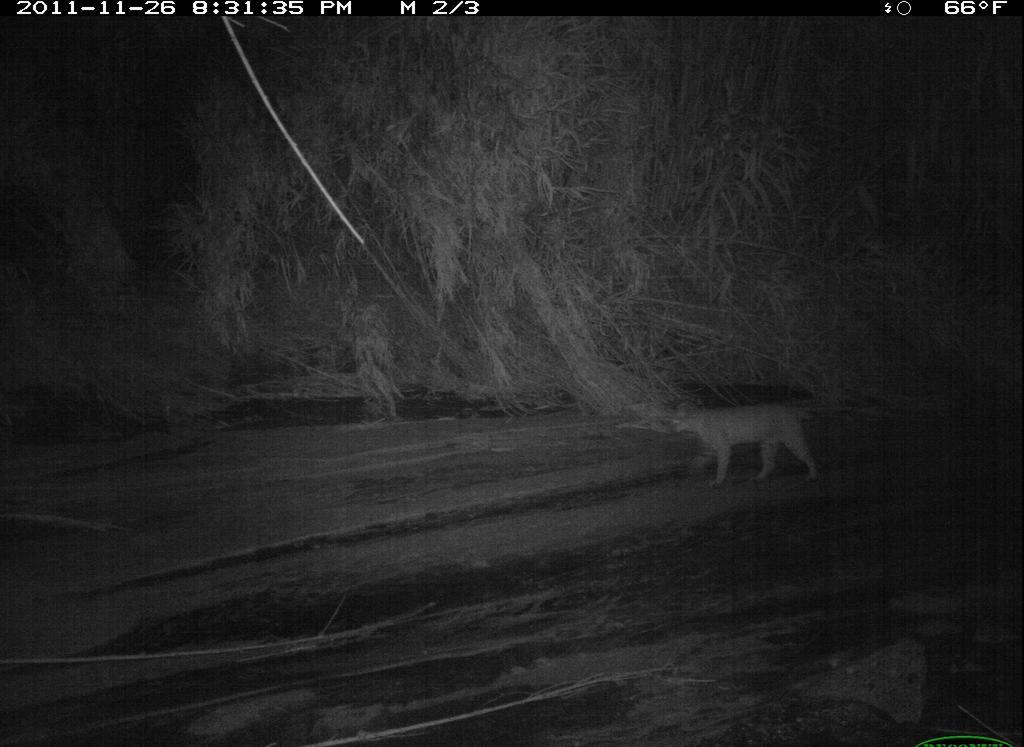bobcat: (662, 387, 834, 493)
